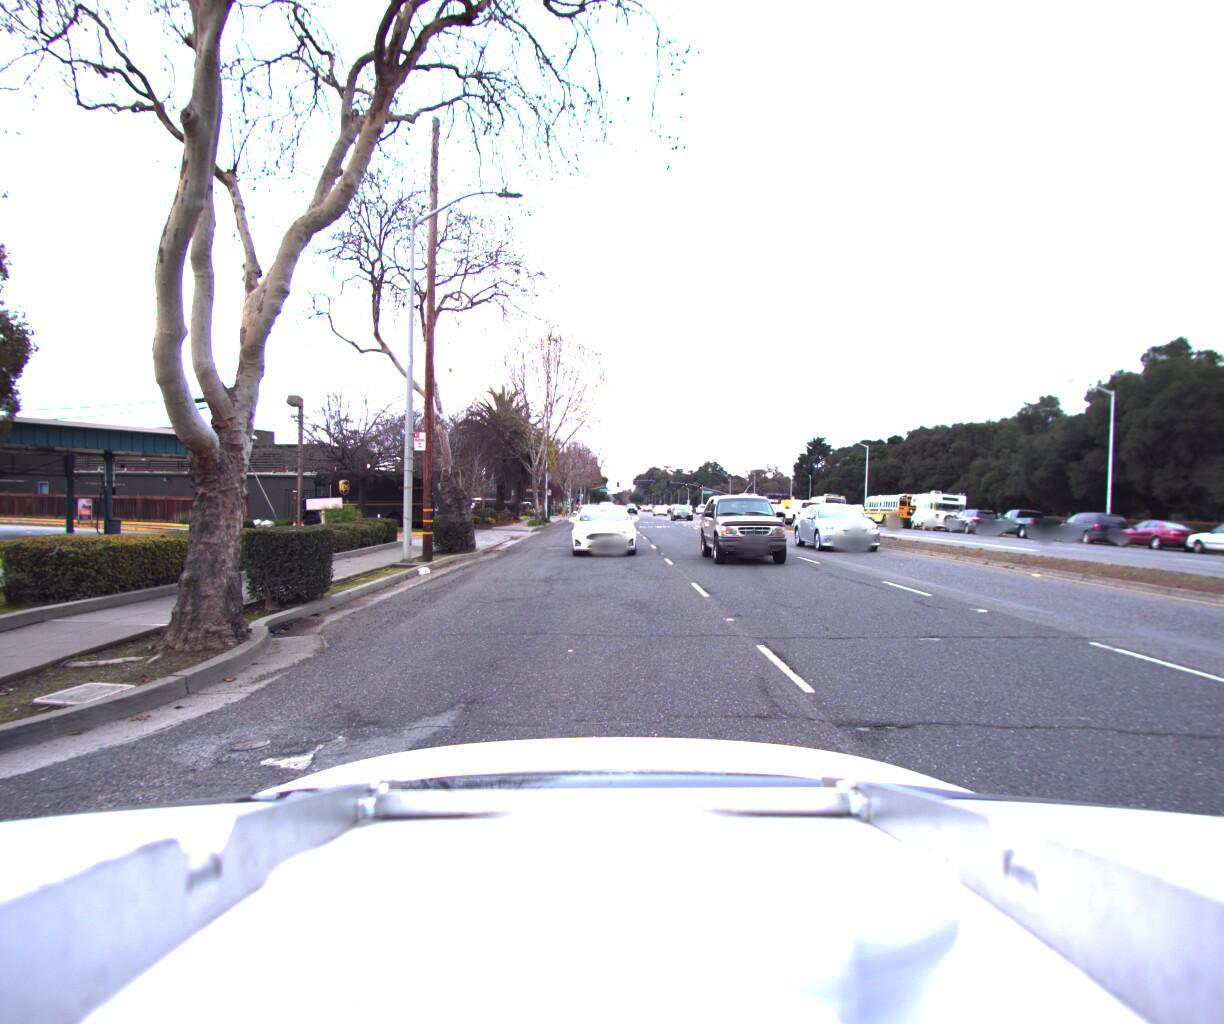bus: (855, 486, 930, 527)
car: (701, 486, 806, 569), (797, 500, 904, 554), (567, 494, 638, 553), (1103, 513, 1210, 550), (1044, 506, 1135, 543), (983, 504, 1065, 536), (1178, 513, 1224, 556), (941, 503, 1002, 532), (780, 492, 827, 522), (755, 498, 795, 520), (670, 500, 697, 517)
other_vehicle: (903, 485, 969, 527)
truck: (291, 464, 464, 528), (726, 486, 779, 517)
